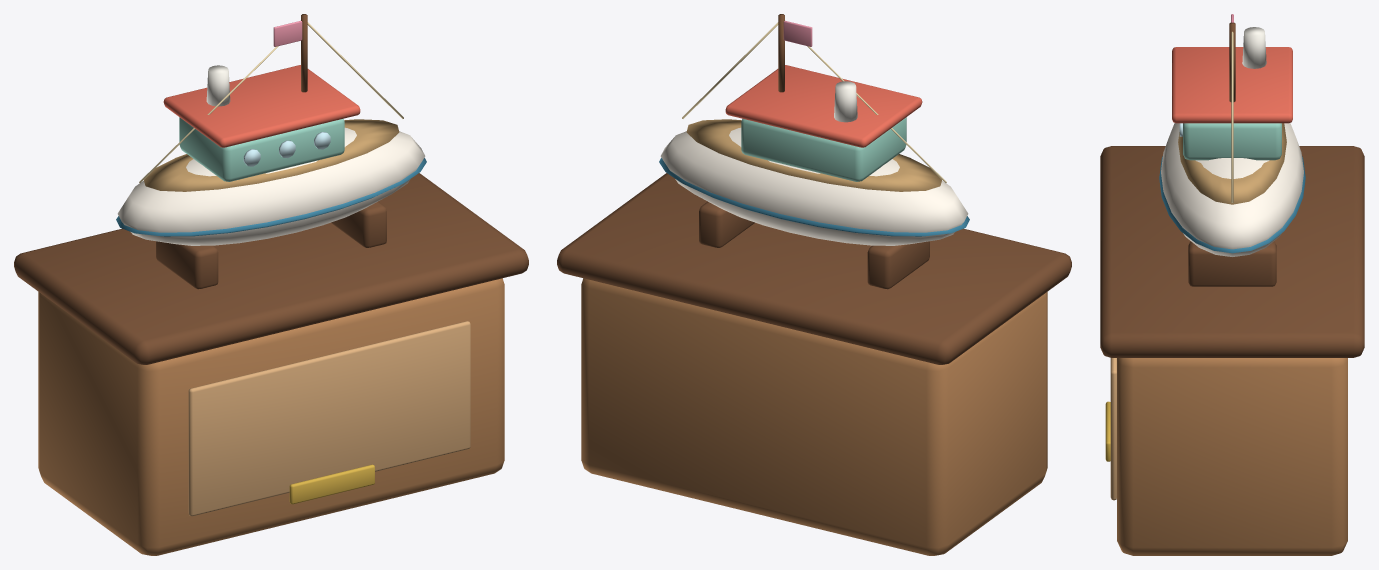
Rendered from ship-model.glb.
The picture shows the model from 3 angles, left to right: view 1: azimuth 30°, elevation 25°; view 2: azimuth 150°, elevation 25°; view 3: azimuth 270°, elevation 25°; orthographic projection.
Visible parts, largest first — view 1: stand, ship; view 2: stand, ship; view 3: stand, ship.
Part boxes in pixels (x1,y1,x2,y2): stand: (14,173,528,555); ship: (116,14,426,245); stand: (557,173,1071,555); ship: (659,14,969,245); stand: (1100,146,1364,555); ship: (1159,14,1305,256).
Size of the model in its own units: 0.84 by 0.93 by 0.48.
